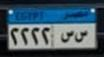2: (21, 27, 30, 45), (10, 27, 19, 45), (41, 27, 50, 44), (31, 27, 40, 44)
seen: (61, 30, 75, 43), (75, 30, 88, 42)
